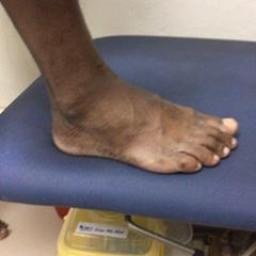Lateral View -Right Foot-: (27, 52, 242, 182)
